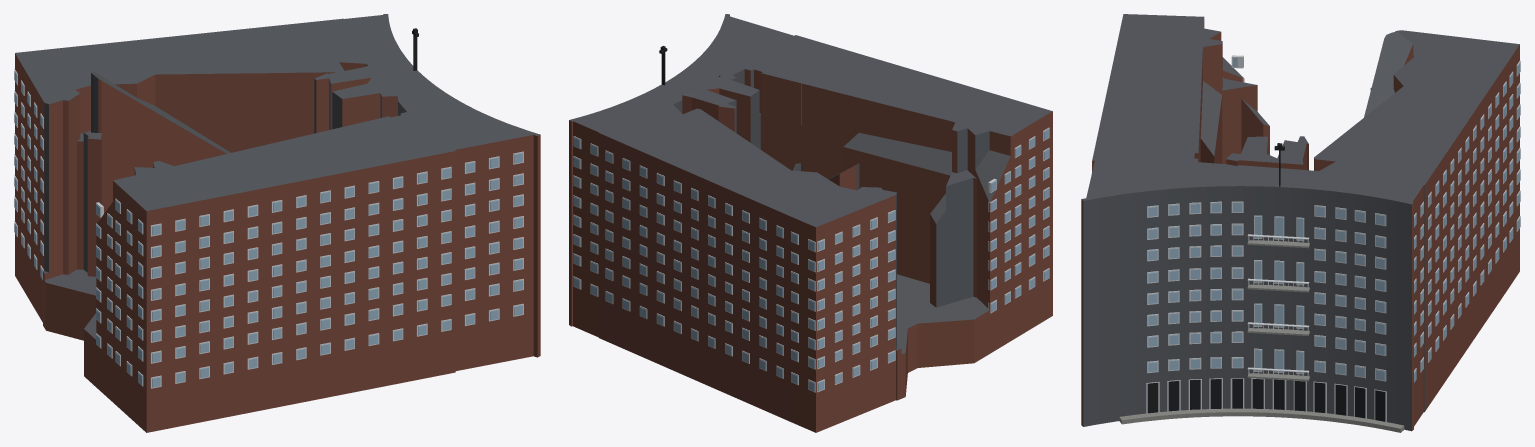
The model's file is woongebouw-wladiwostok.glb.
3 renders of one model, left to right at view 1: azimuth 30°, elevation 25°; view 2: azimuth 150°, elevation 25°; view 3: azimuth 270°, elevation 25°, orthographic. The views are drawn at different scales.
Parts seen in each view (by area): view 1: woongebouw-wladiwostok; view 2: woongebouw-wladiwostok; view 3: woongebouw-wladiwostok.
Part boxes in pixels (bbox=[...]): woongebouw-wladiwostok: bbox=[14, 14, 540, 432]; woongebouw-wladiwostok: bbox=[569, 14, 1052, 432]; woongebouw-wladiwostok: bbox=[1081, 14, 1520, 432].
Bounding box in the file's own units: 50.24 × 32.7 × 48.42.
